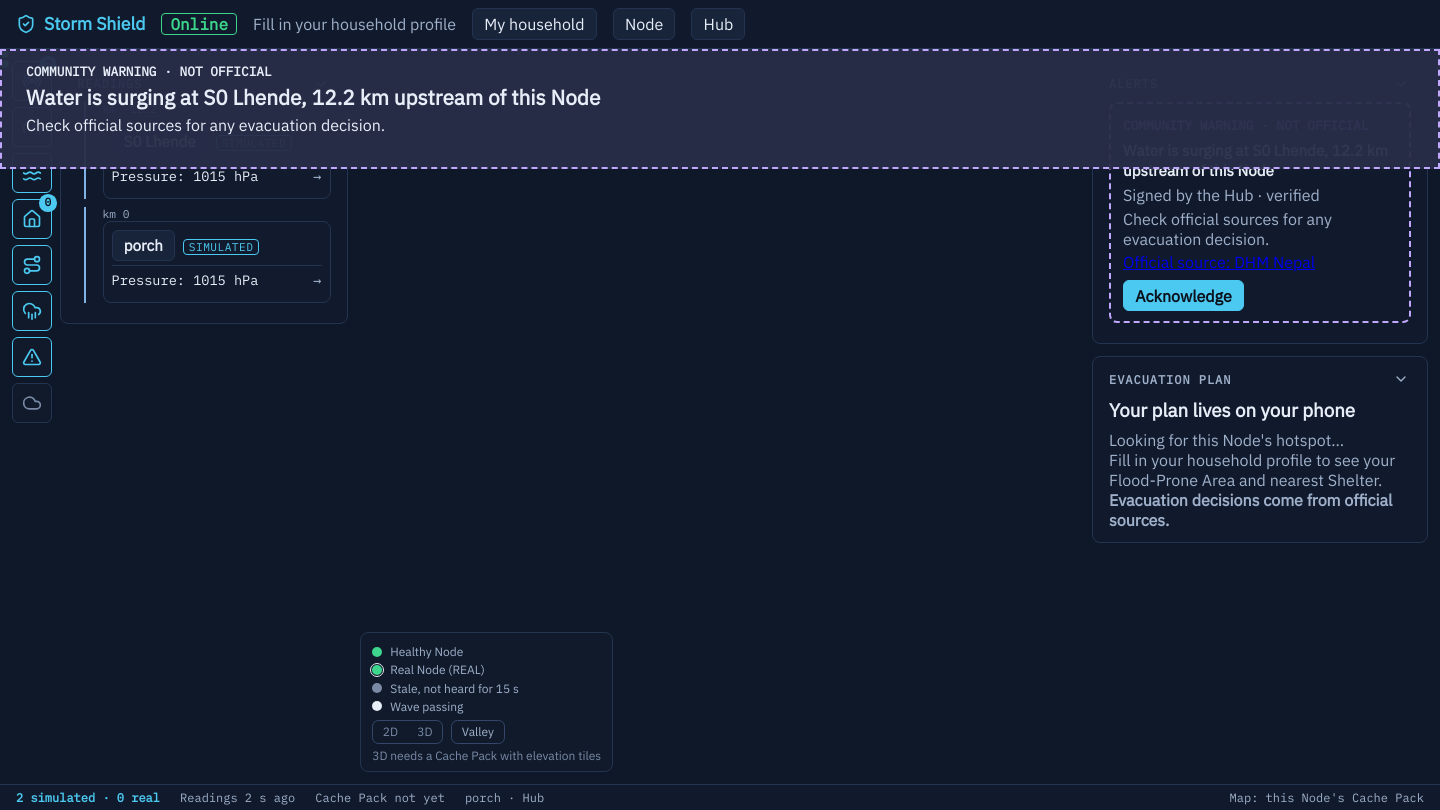
Test: the Hub Panel's Warnings tab logs what was sent, with the Node and its River km
Click the button "Hub" at (718,24), box [691,8,746,40]
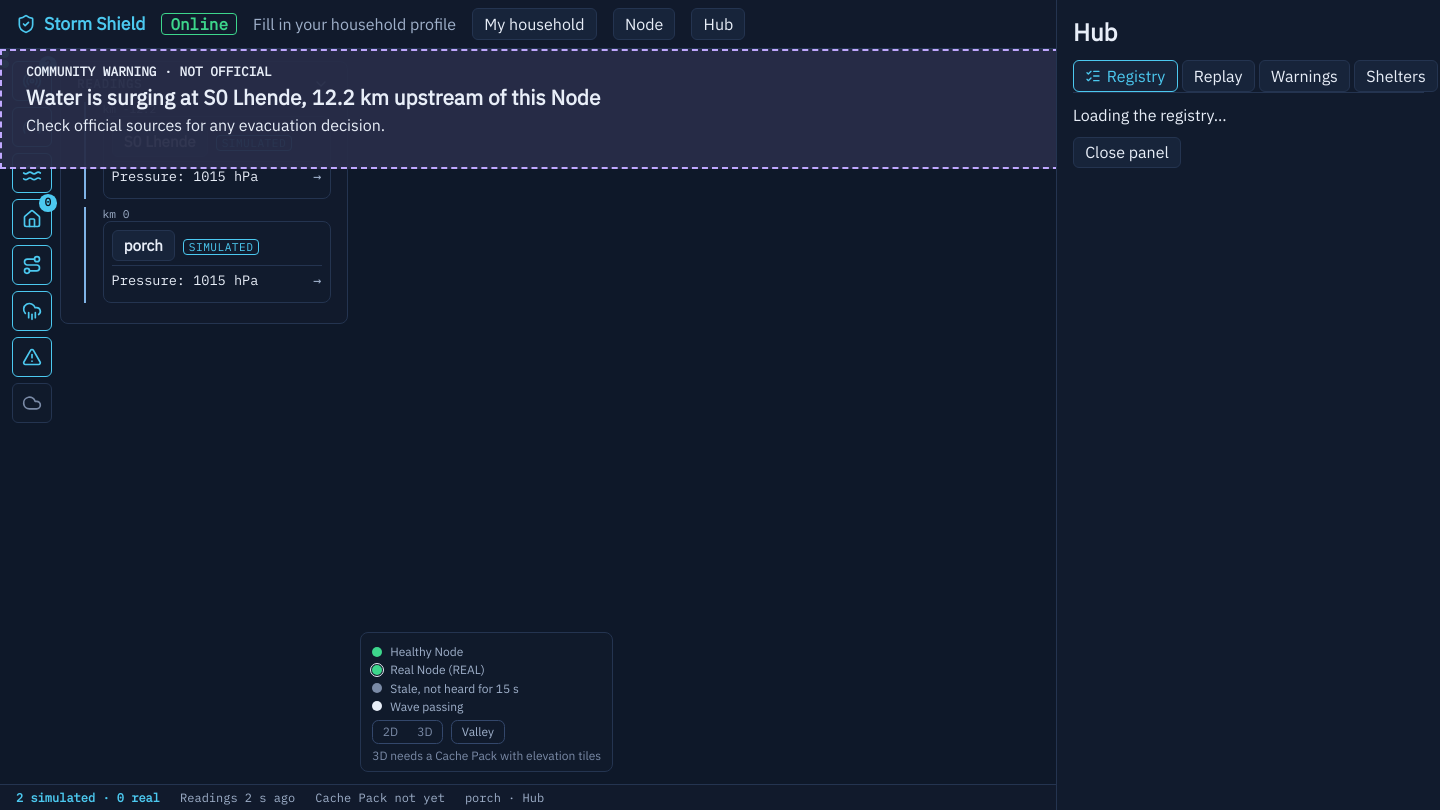
Click the tab "Warnings" at (1304,76), box [1259,60,1350,92]
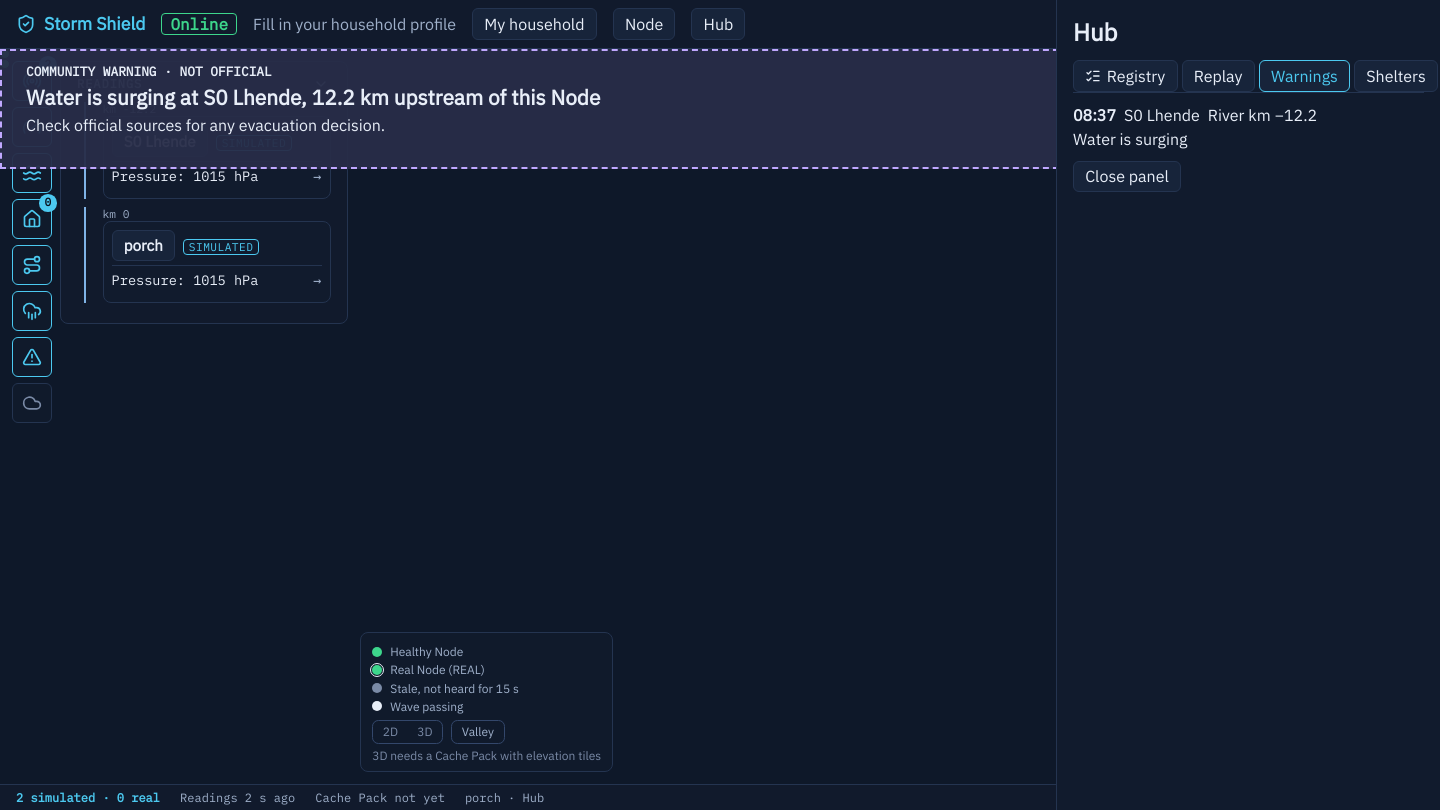
Expected: the text "08:37" is shown, [1073,105,1116,125]
Expected: the text "S0 Lhende" is shown, [1124,105,1200,125]
Expected: the text "River km −12.2" is shown, [1208,105,1317,125]
